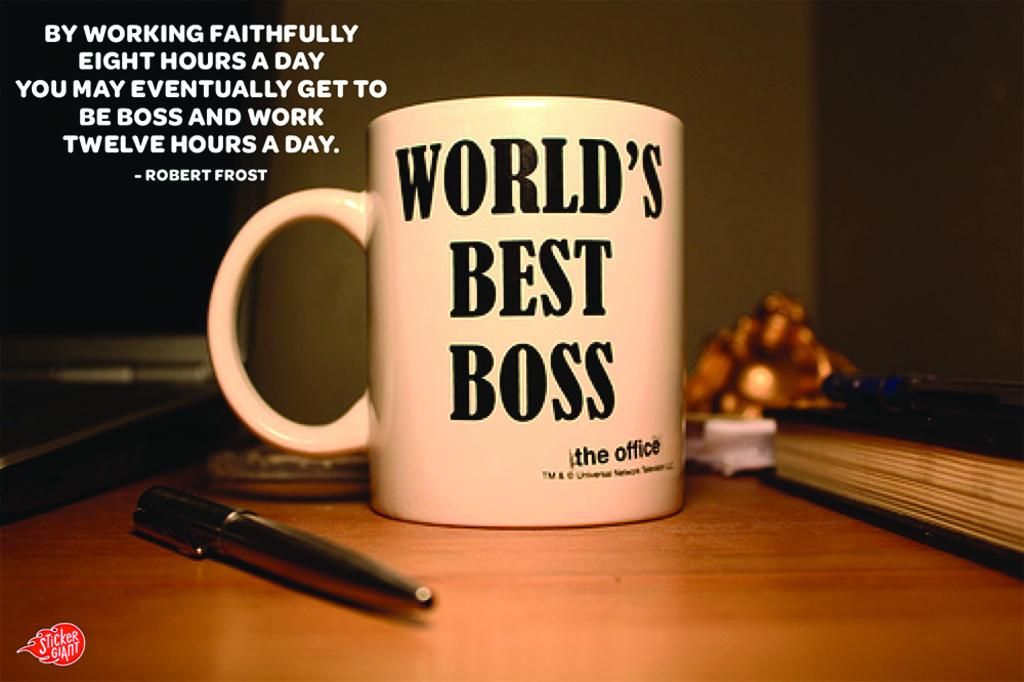pen: (135, 476, 435, 614)
